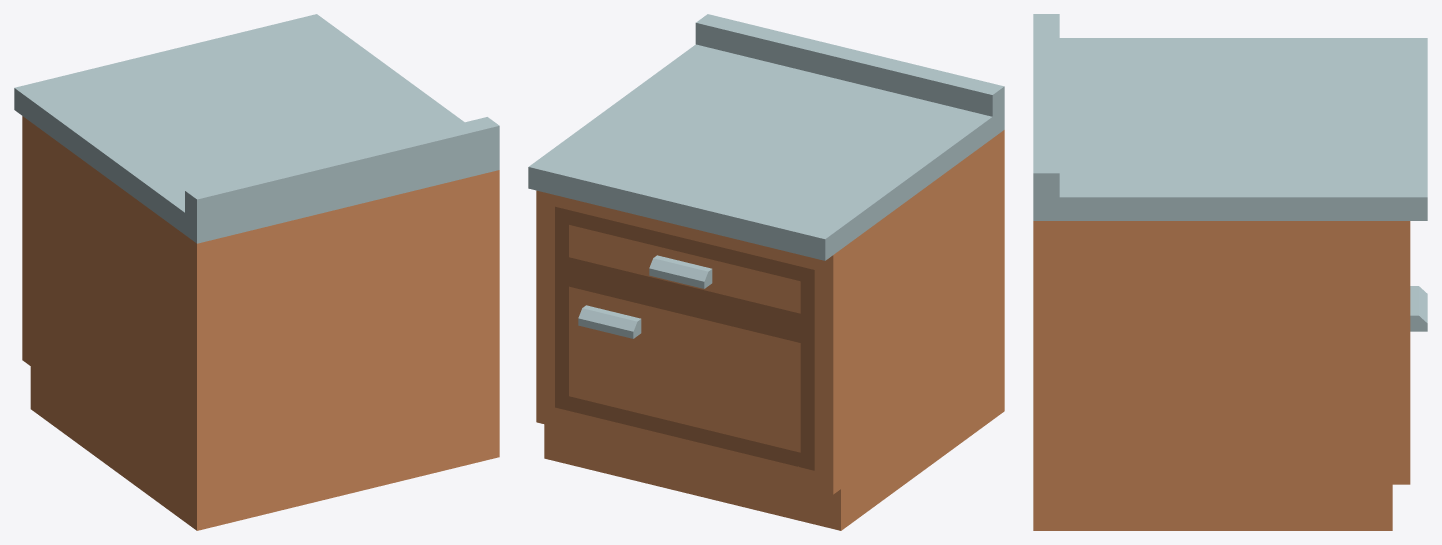
Rendered from kitchenCabinetDrawer.dae.
The picture shows the model from 3 angles, left to right: view 1: azimuth 30°, elevation 25°; view 2: azimuth 150°, elevation 25°; view 3: azimuth 270°, elevation 25°; orthographic projection. The views are drawn at different scales.
Parts seen in each view (by area): view 1: kitchenCabinetDrawer; view 2: kitchenCabinetDrawer, door, drawer; view 3: kitchenCabinetDrawer, door.
Boxes of the visible parts, left/top/right/bottom form: kitchenCabinetDrawer: left=14, top=14, right=499, bottom=530; kitchenCabinetDrawer: left=528, top=14, right=1004, bottom=530; door: left=555, top=268, right=814, bottom=470; drawer: left=555, top=206, right=814, bottom=331; kitchenCabinetDrawer: left=1033, top=14, right=1427, bottom=530; door: left=1410, top=286, right=1427, bottom=331.
Size of the model in its own units: 0.43 by 0.45 by 0.45.
